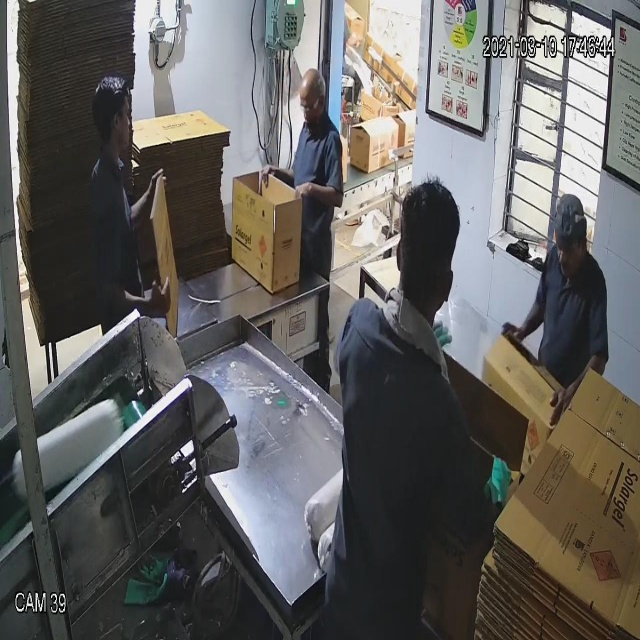Sin_guantes: (90, 260, 190, 342), (545, 348, 610, 439), (488, 286, 554, 367), (124, 164, 170, 232), (293, 172, 346, 222)
